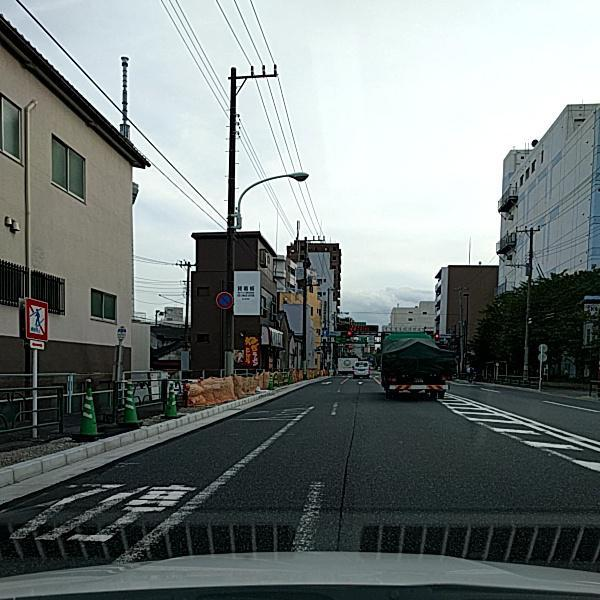D44: (25, 407, 306, 570)
